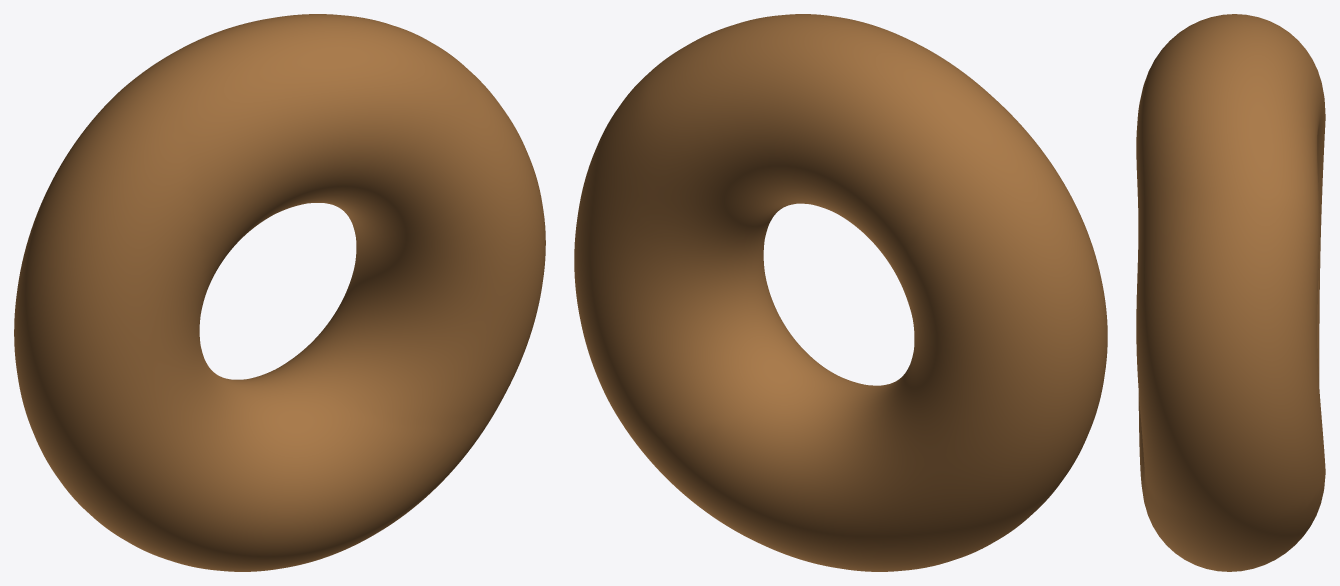
The picture shows the model from 3 angles, left to right: view 1: azimuth 30°, elevation 25°; view 2: azimuth 150°, elevation 25°; view 3: azimuth 270°, elevation 25°; orthographic projection. The views are drawn at different scales.
Bounding box in the file's own units: 0.9877 × 0.9877 × 0.3351.
